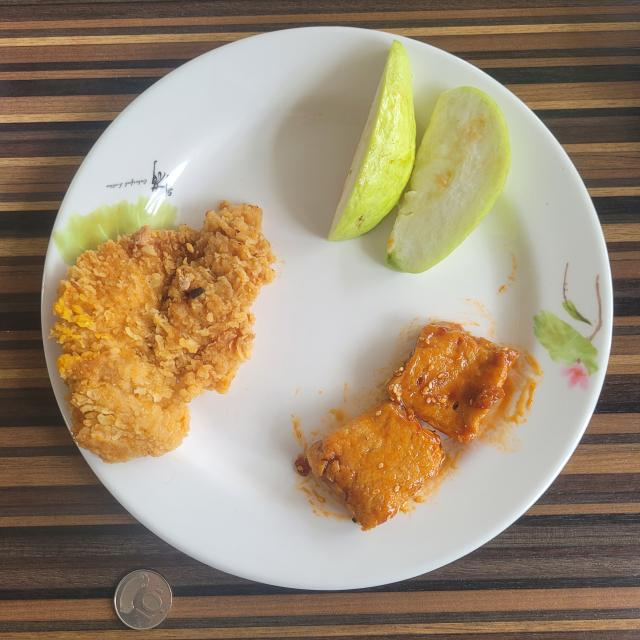coin: (114, 570, 172, 630)
creamy tofu: (295, 322, 519, 530)
fried chicken cutlet: (51, 201, 275, 462)
guava -sliced-: (328, 41, 511, 272)
